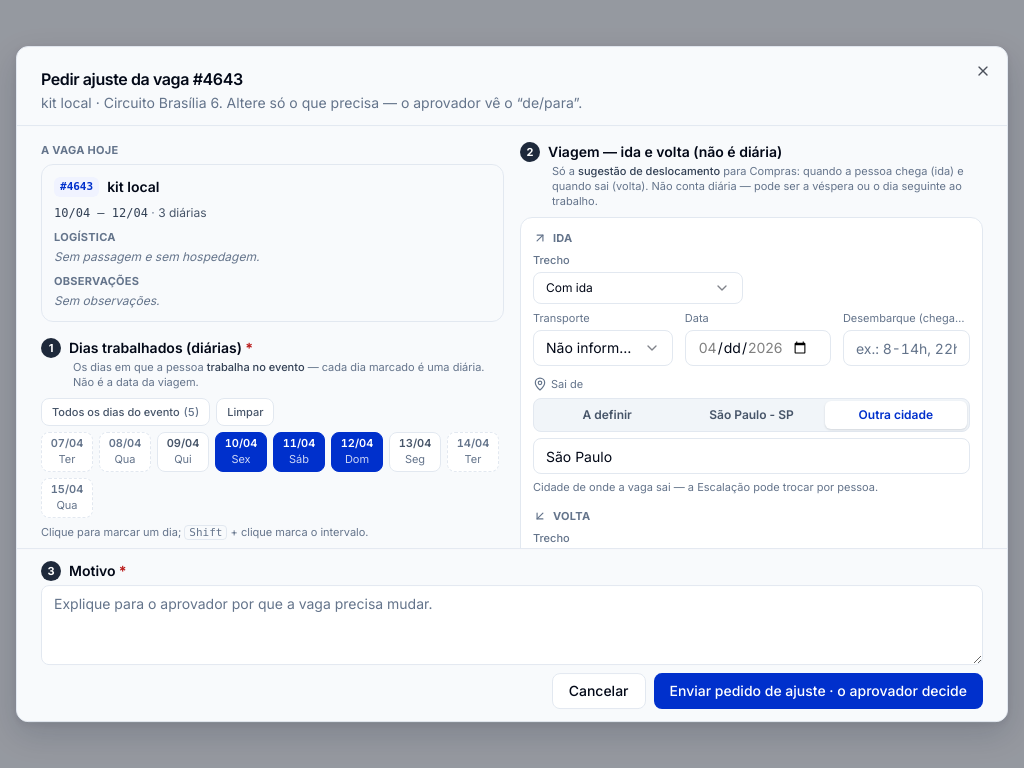
Test: AdjustRequestDialog — responder sem mudar a vaga › sem o atalho (modal da Escalação), a regra continua: nada mudou é erro
Expected: the button with test id "button-enviar-ajuste" shows "Enviar pedido de ajuste", [654,673,983,709]
Click the text box labelled "3 Motivo *" at coordinates (512, 625), box [41,585,983,665]
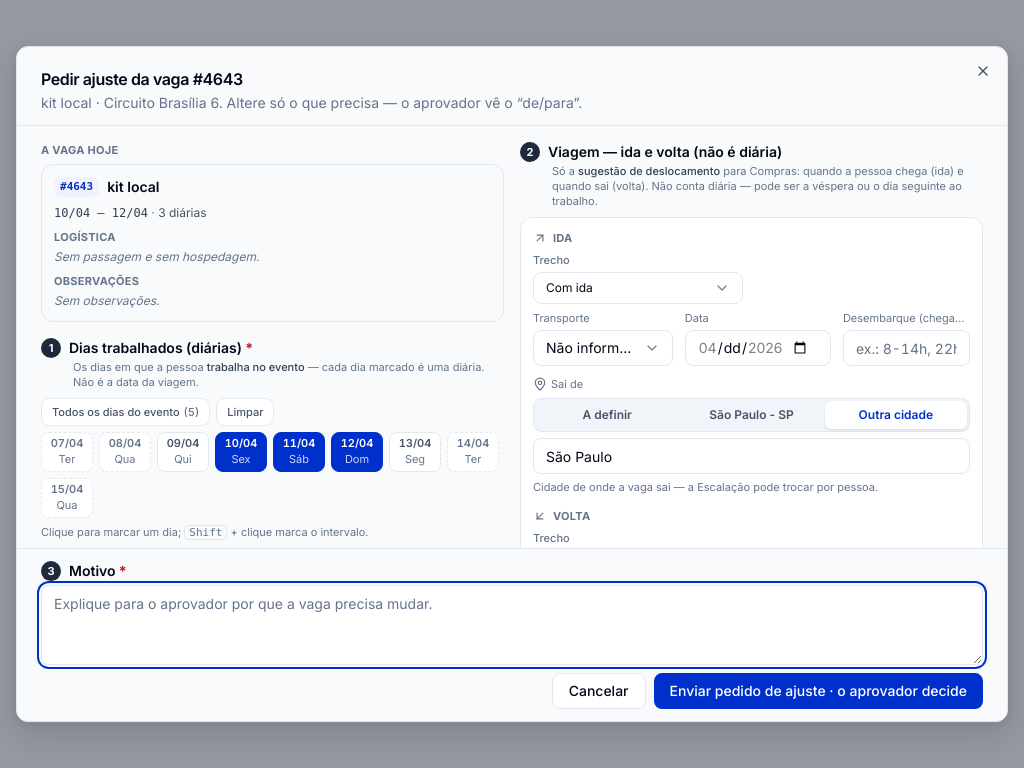
Type keys "Qualquer coisa"
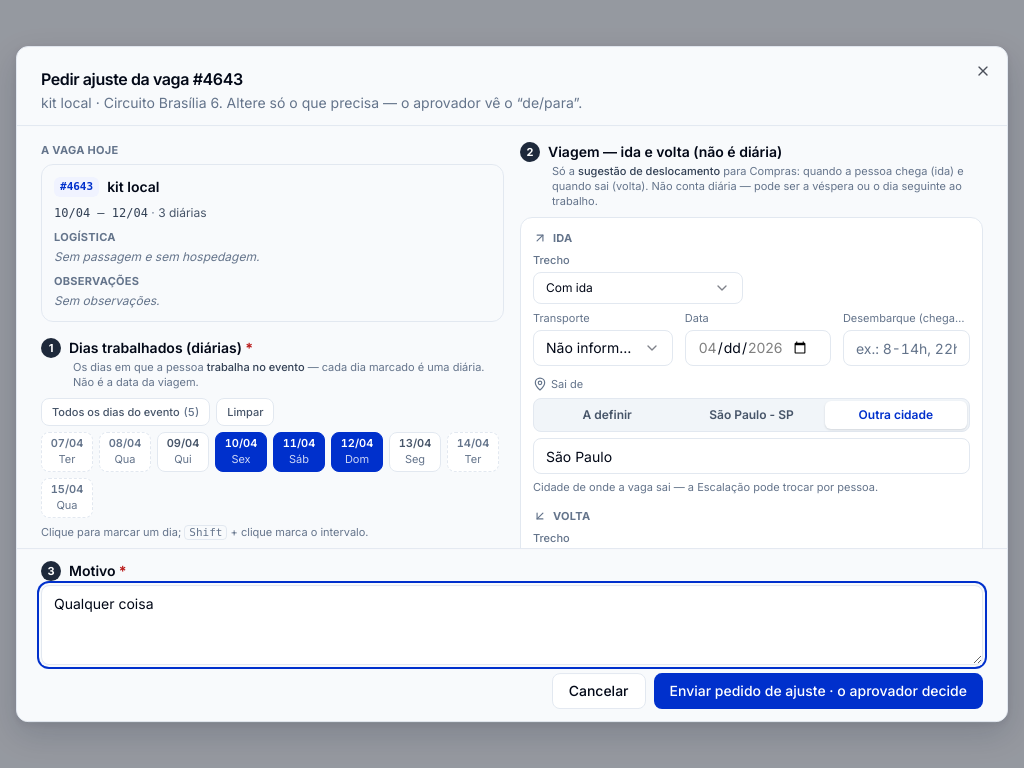
Click the button with test id "button-enviar-ajuste" at coordinates (818, 691), box [654,673,983,709]
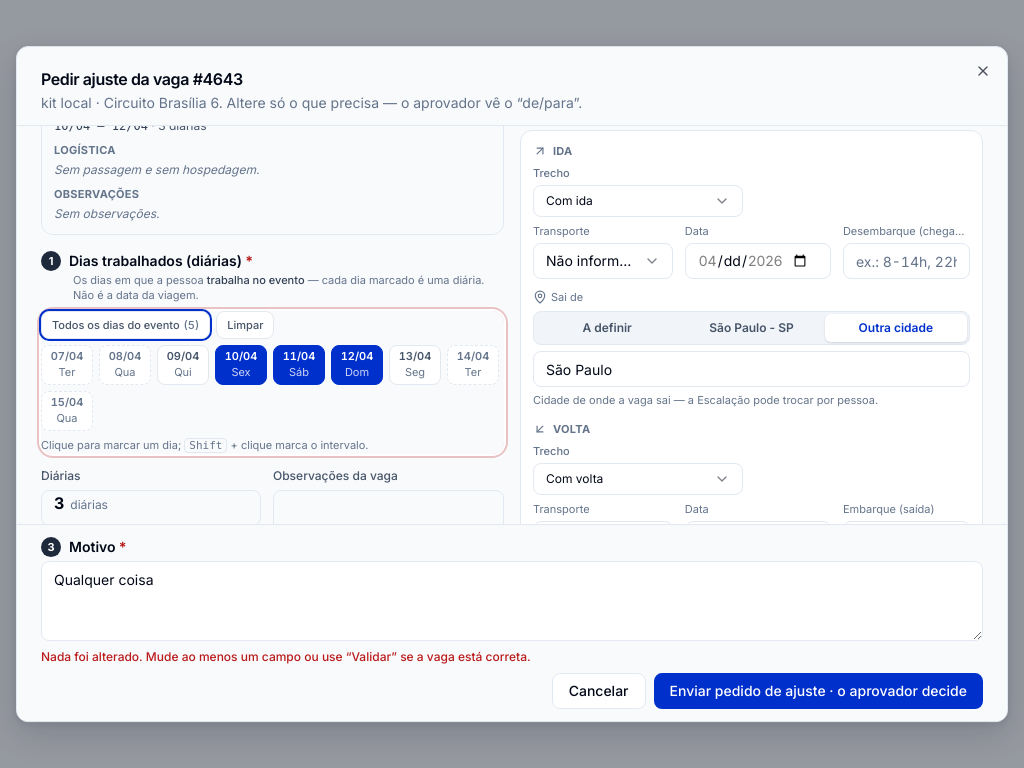
Now the message shows "Nada foi alterado. Mude ao menos um campo", box [41,649,531,664]
